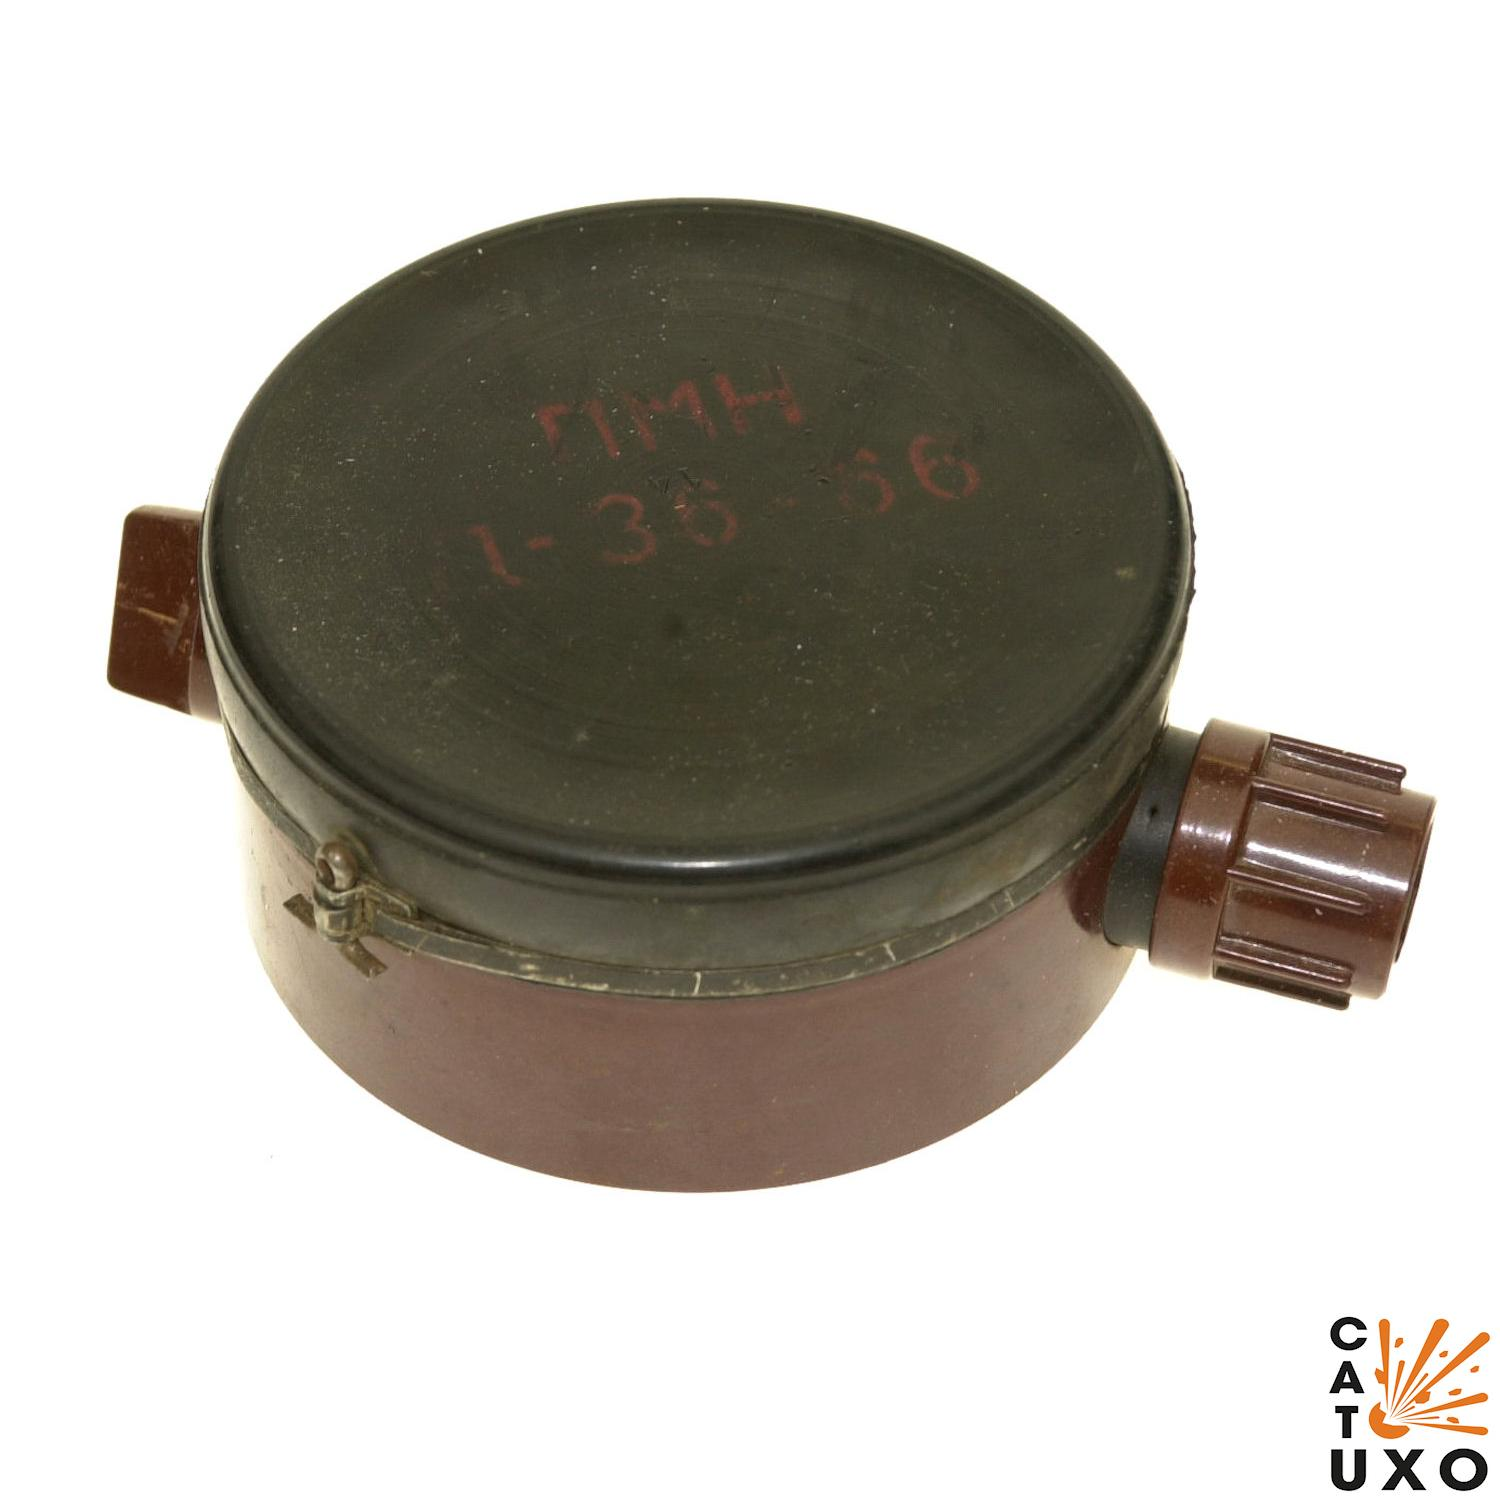pmn: (82, 181, 1451, 1249)
